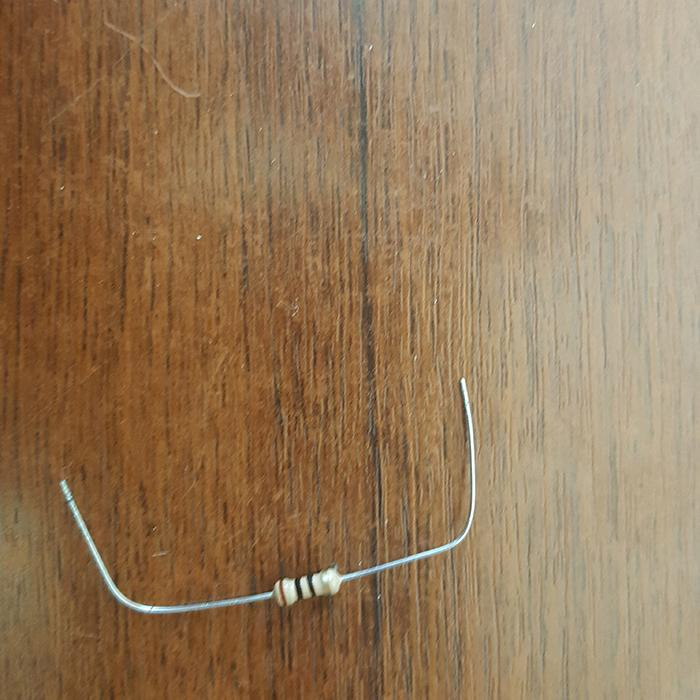resistor: (269, 564, 343, 607)
